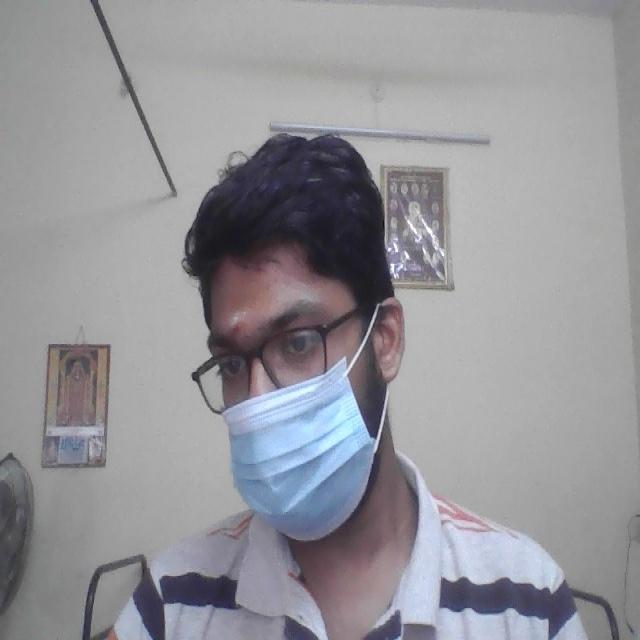Focused: (200, 259, 386, 512)
